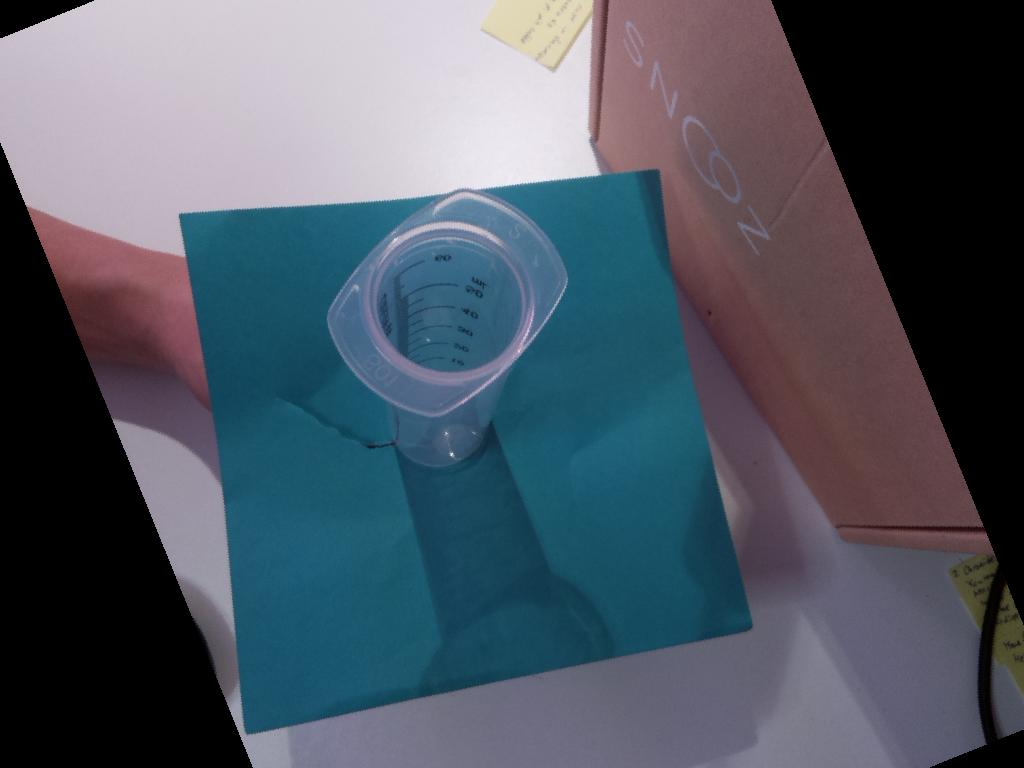clean: (326, 190, 571, 418)
